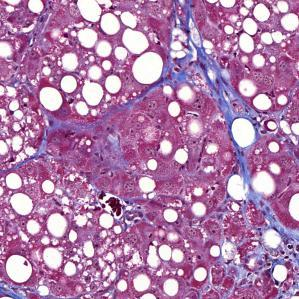fibrosis: (171, 26, 236, 113)
